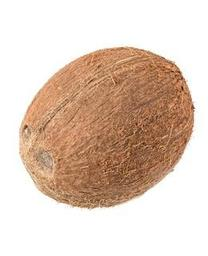coconut: (17, 46, 194, 209)
